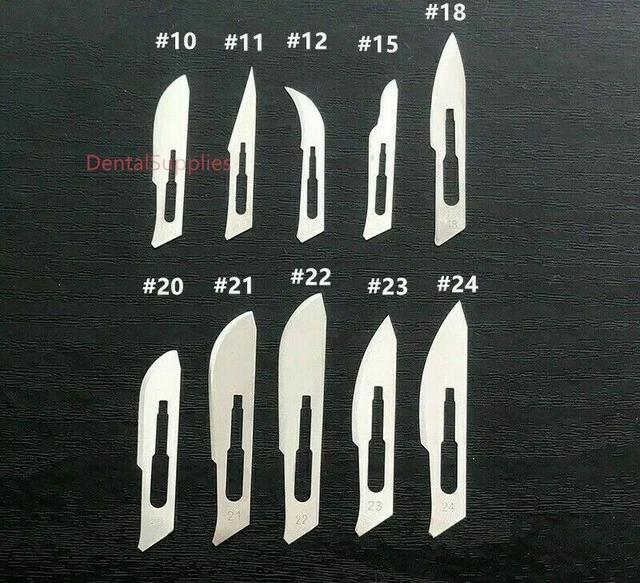Surgical blade: (199, 300, 259, 550), (274, 286, 325, 548), (416, 300, 468, 545), (350, 298, 397, 548), (132, 346, 189, 551), (425, 32, 476, 255), (276, 76, 339, 253), (140, 68, 197, 255), (221, 65, 265, 253), (357, 72, 397, 243)
